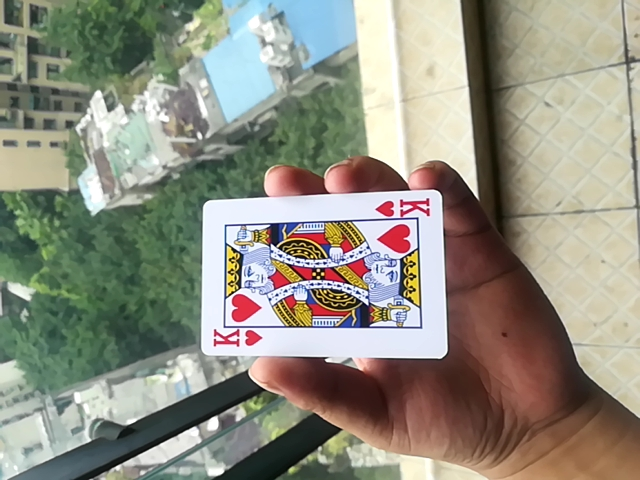hx k: (198, 185, 448, 363)
